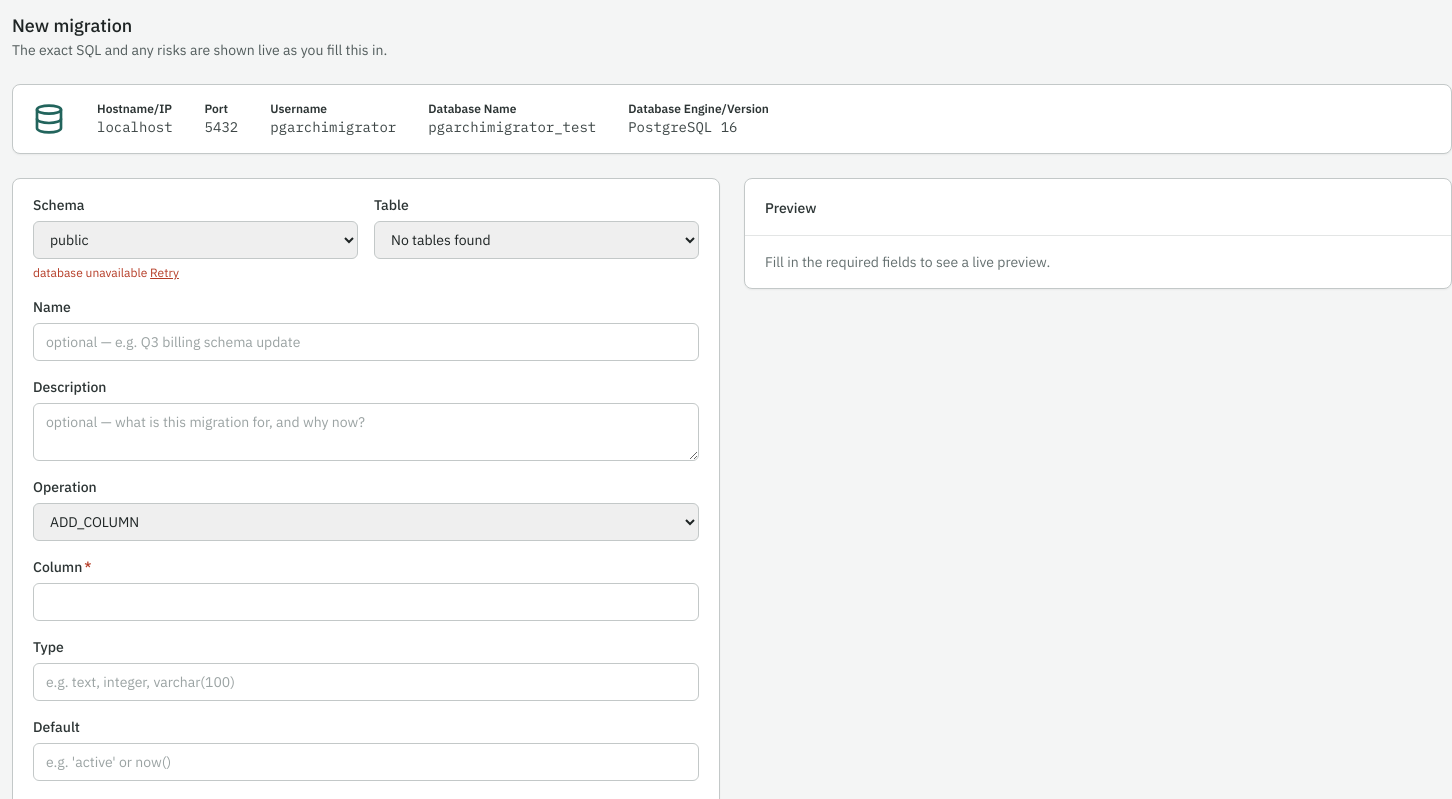
Test: NewMigration catalog dropdowns › shows a retry link and re-fetches when listSchemas fails
expect the text "database unavailable" is shown: met, box 33,265 -> 147,280
Click the button "Retry".
click(164, 273)  # box 150,265 -> 179,281
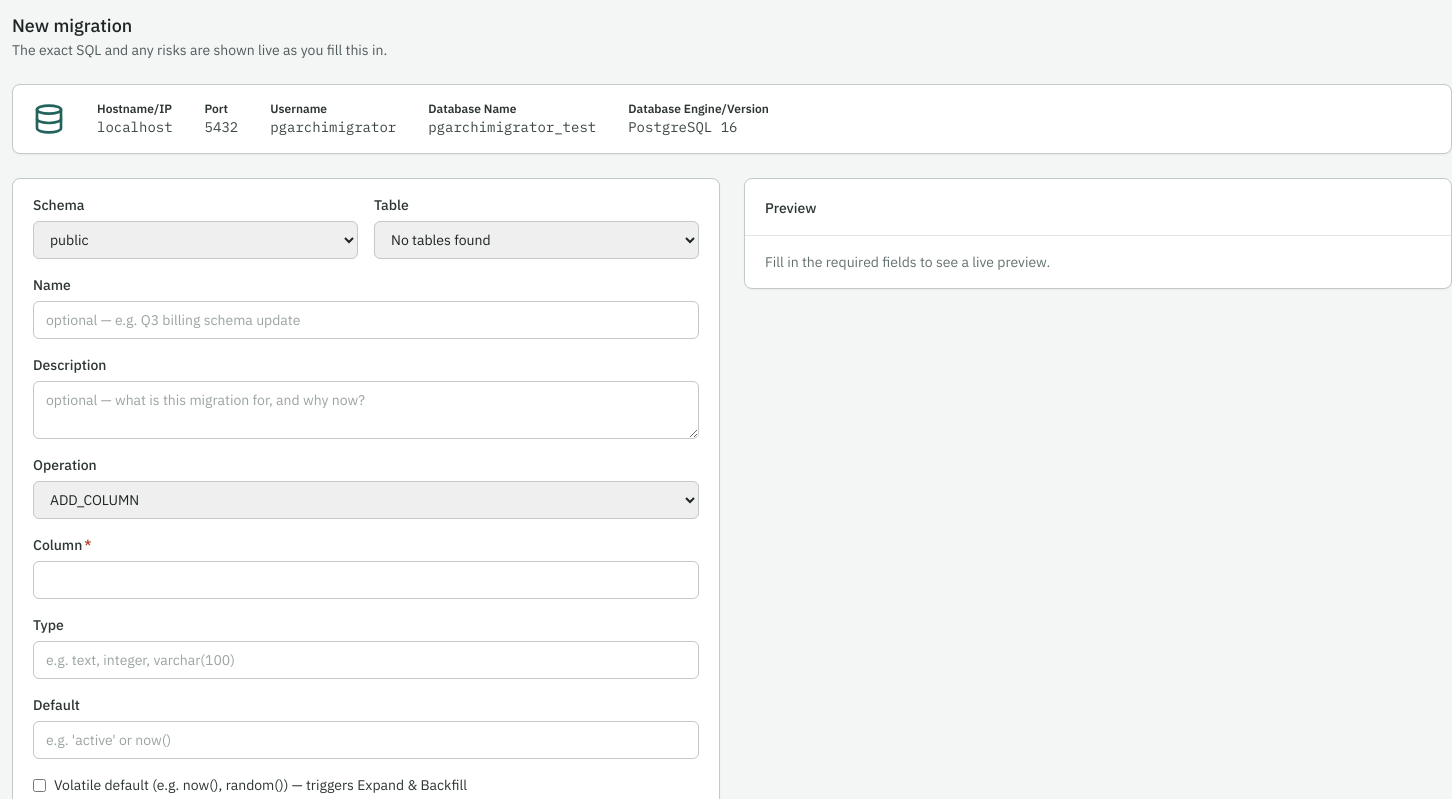
expect the text "database unavailable" is gone: met
